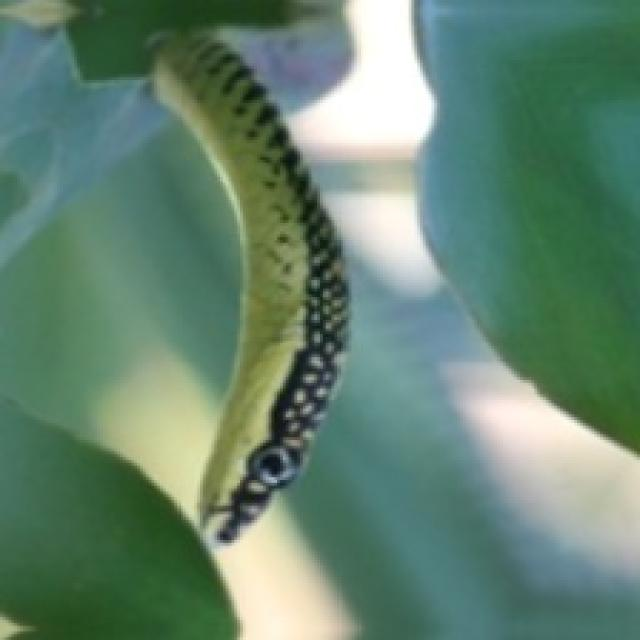paradise tree snake: (151, 34, 346, 540)
